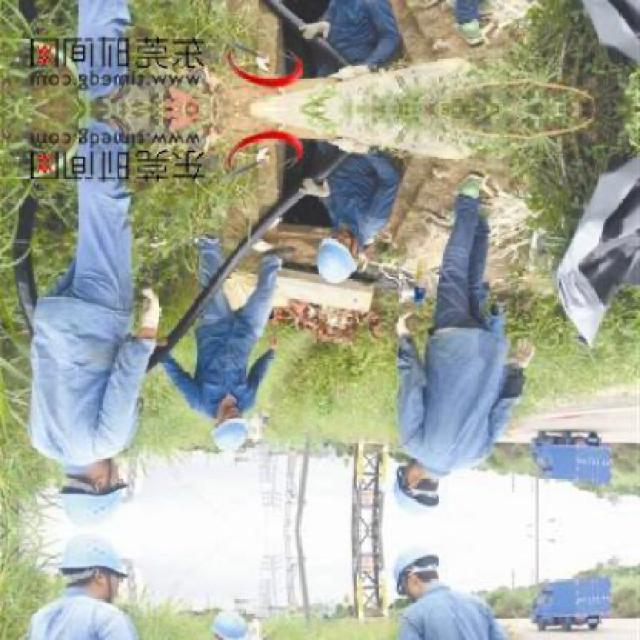con casco: (24, 447, 143, 524), (288, 217, 382, 299), (374, 466, 458, 532), (188, 389, 263, 460), (384, 535, 460, 603)
